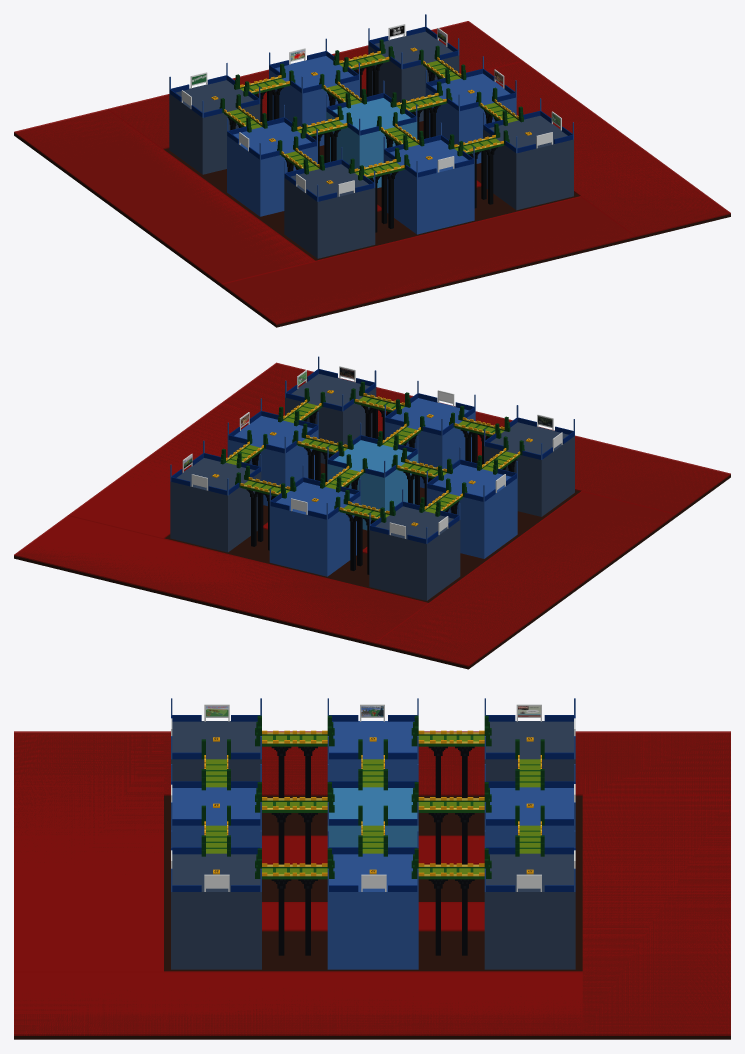
Rendered from RocketArena.obj.
3 renders of one model, top to bottom at view 1: azimuth 30°, elevation 25°; view 2: azimuth 150°, elevation 25°; view 3: azimuth 270°, elevation 25°, orthographic. The views are drawn at different scales.
Visible parts, largest first — view 1: Floor1, Lava5, Lava8, Lava6, SmoothBlockModel1785, SmoothBlockModel1733, SmoothBlockModel1746, Lava7, SmoothBlockModel1759, SmoothBlockModel1772, SmoothBlockModel13, SmoothBlockModel1707 (+2 smaller); view 2: Floor1, Lava7, Lava8, Lava6, Lava5, SmoothBlockModel1759, SmoothBlockModel13, SmoothBlockModel1707, SmoothBlockModel1785, SmoothBlockModel1772, SmoothBlockModel1733, SmoothBlockModel1720 (+2 smaller); view 3: Floor1, Lava6, Lava5, Lava7, Lava8, SmoothBlockModel13, SmoothBlockModel1733, SmoothBlockModel1694, SmoothBlockModel1759, SmoothBlockModel1785, SmoothBlockModel1707, SmoothBlockModel1746 (+6 smaller).
Boxes of the visible parts, left/top/right/bottom form: Floor1: left=14, top=22, right=730, bottom=327; Lava5: left=221, top=196, right=635, bottom=324; Lava8: left=14, top=109, right=315, bottom=284; Lava6: left=485, top=60, right=730, bottom=236; SmoothBlockModel1785: left=284, top=164, right=375, bottom=258; SmoothBlockModel1733: left=483, top=115, right=573, bottom=210; SmoothBlockModel1746: left=383, top=140, right=474, bottom=234; Lava7: left=108, top=21, right=522, bottom=149; SmoothBlockModel1759: left=169, top=80, right=260, bottom=174; SmoothBlockModel1772: left=227, top=122, right=317, bottom=216; SmoothBlockModel13: left=368, top=31, right=459, bottom=121; SmoothBlockModel1707: left=269, top=56, right=359, bottom=145; Floor1: left=14, top=364, right=730, bottom=669; Lava7: left=14, top=515, right=428, bottom=643; Lava8: left=374, top=491, right=675, bottom=666; Lava6: left=69, top=362, right=353, bottom=538; Lava5: left=376, top=387, right=730, bottom=514; SmoothBlockModel1759: left=369, top=506, right=460, bottom=600; SmoothBlockModel13: left=170, top=458, right=261, bottom=552; SmoothBlockModel1707: left=269, top=482, right=360, bottom=576; SmoothBlockModel1785: left=484, top=422, right=574, bottom=516; SmoothBlockModel1772: left=426, top=464, right=517, bottom=558; SmoothBlockModel1733: left=285, top=374, right=376, bottom=463; SmoothBlockModel1720: left=327, top=440, right=418, bottom=530; Floor1: left=14, top=733, right=730, bottom=1039; Lava6: left=14, top=971, right=582, bottom=1035; Lava5: left=14, top=731, right=163, bottom=972; Lava7: left=582, top=794, right=730, bottom=1035; Lava8: left=164, top=731, right=730, bottom=795; SmoothBlockModel13: left=484, top=853, right=575, bottom=969; SmoothBlockModel1733: left=171, top=853, right=261, bottom=969; SmoothBlockModel1694: left=327, top=853, right=418, bottom=969; SmoothBlockModel1759: left=484, top=721, right=575, bottom=781; SmoothBlockModel1785: left=171, top=721, right=261, bottom=781; SmoothBlockModel1707: left=484, top=787, right=575, bottom=847; SmoothBlockModel1746: left=171, top=787, right=261, bottom=847.
Bounding box in the file's own units: 512 × 82.2 × 512.
Materials: 26 (12 with a texture image).
